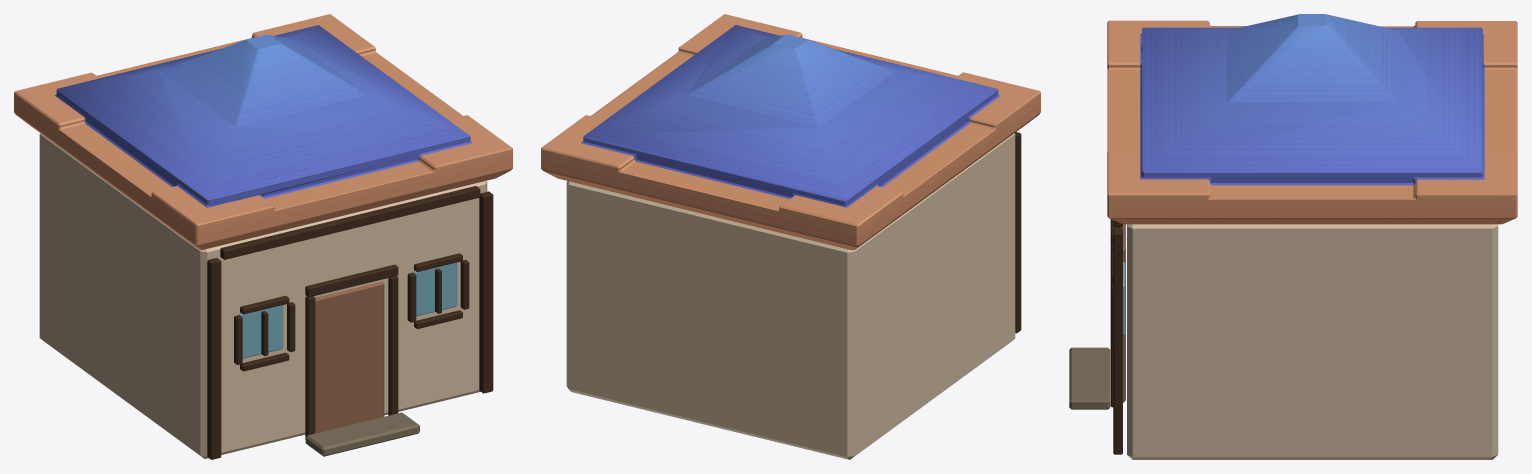
The model's file is town_shop_draft.glb.
The picture shows the model from 3 angles, left to right: view 1: azimuth 30°, elevation 25°; view 2: azimuth 150°, elevation 25°; view 3: azimuth 270°, elevation 25°; orthographic projection. The views are drawn at different scales.
Visible parts, largest first — view 1: ShopRoof, ShopBody, ShopWoodTrim, ShopDoor, ShopStep, ShopWindowLeft, ShopWindowRight; view 2: ShopBody, ShopRoof, ShopWoodTrim; view 3: ShopBody, ShopRoof, ShopWoodTrim, ShopStep.
Part boxes in pixels (box(x1,y1,x2,y2)): ShopRoof: box(14, 14, 512, 249); ShopBody: box(39, 133, 487, 458); ShopWoodTrim: box(207, 186, 493, 459); ShopDoor: box(315, 281, 384, 433); ShopStep: box(305, 412, 419, 456); ShopWindowLeft: box(239, 305, 283, 358); ShopWindowRight: box(413, 262, 457, 316); ShopBody: box(566, 133, 1015, 459); ShopRoof: box(541, 14, 1040, 250); ShopWoodTrim: box(1014, 132, 1021, 333); ShopBody: box(1127, 224, 1498, 459); ShopRoof: box(1107, 14, 1517, 224); ShopWoodTrim: box(1110, 219, 1122, 454); ShopStep: box(1069, 347, 1110, 409).
Size of the model in its own units: 4.2 by 4.11 by 4.59.
6 materials, 1 textured.
